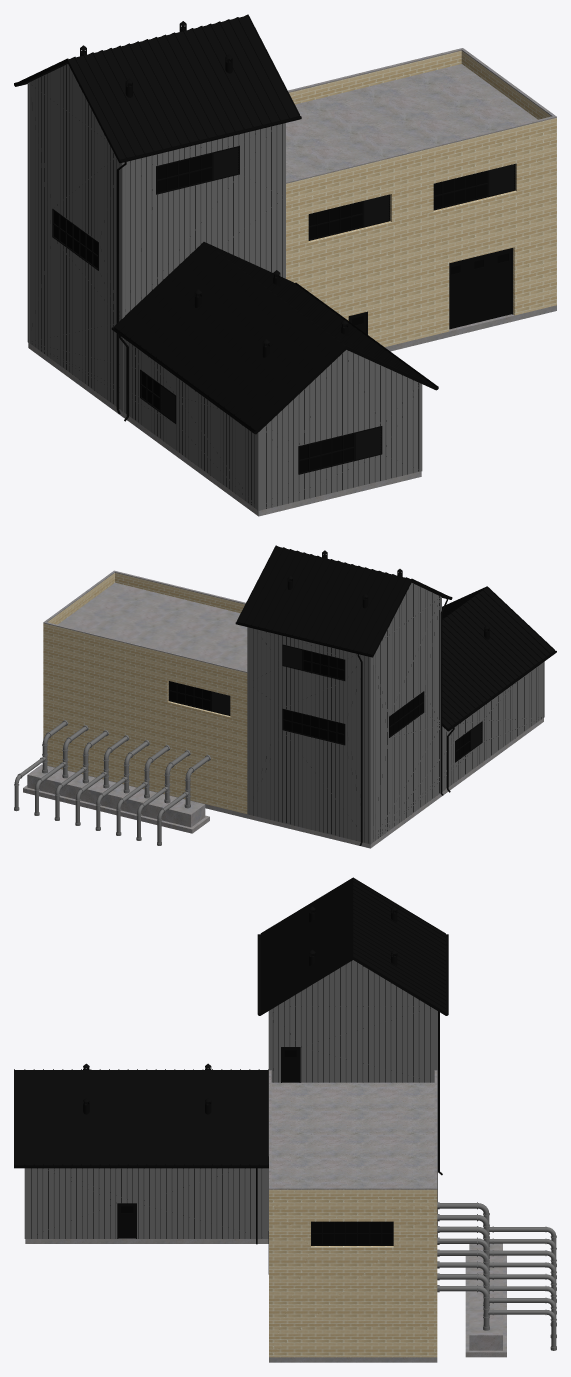
File: Industrial Building.fbx
The picture shows the model from 3 angles, top to bottom: view 1: azimuth 30°, elevation 25°; view 2: azimuth 150°, elevation 25°; view 3: azimuth 270°, elevation 25°; orthographic projection. The views are drawn at different scales.
Visible parts, largest first — view 1: Wall, Roof, Window, Door, Vent; view 2: Wall, Roof, Pipe, Window; view 3: Wall, Roof, Pipe, Window, Door, Vent.
Boxes of the visible parts, box(x1,y1,x2,y2) form: Wall: box(27, 48, 556, 516); Roof: box(14, 14, 438, 434); Window: box(52, 146, 515, 474); Door: box(348, 248, 512, 334); Vent: box(80, 21, 348, 357); Wall: box(43, 570, 544, 848); Roof: box(235, 545, 556, 845); Pipe: box(14, 720, 210, 845); Window: box(168, 644, 482, 762); Wall: box(24, 960, 437, 1362); Roof: box(14, 877, 448, 1244); Pipe: box(437, 1202, 556, 1357); Window: box(311, 1221, 393, 1245); Door: box(117, 1047, 300, 1274); Vent: box(83, 906, 397, 1114).
Size of the model in its own units: 24994 by 17475 by 29478.
7 materials, 4 textured.
